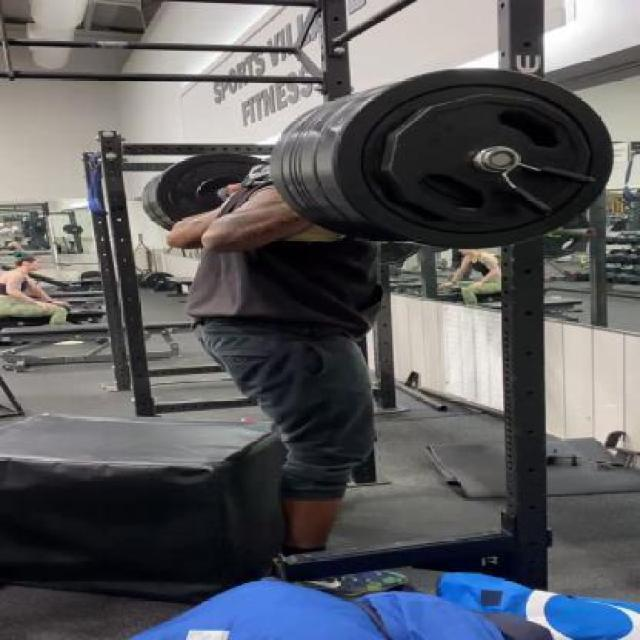barbell: (332, 66, 618, 253)
